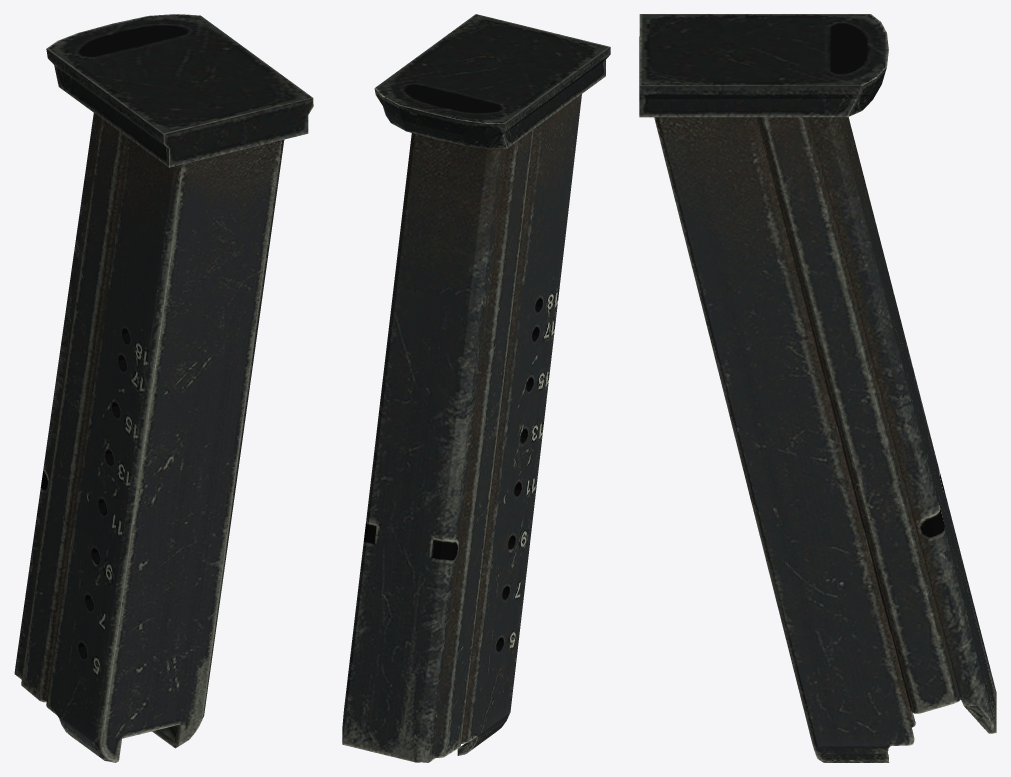
The picture shows the model from 3 angles, left to right: view 1: azimuth 30°, elevation 25°; view 2: azimuth 150°, elevation 25°; view 3: azimuth 270°, elevation 25°; orthographic projection. The views are drawn at different scales.
Visible parts, largest first — view 1: TW_576a5ed62459771e9c2096cb_PZ_Import; view 2: TW_576a5ed62459771e9c2096cb_PZ_Import; view 3: TW_576a5ed62459771e9c2096cb_PZ_Import.
Part boxes in pixels (x1,y1,x2,y2): TW_576a5ed62459771e9c2096cb_PZ_Import: (14,14,313,762); TW_576a5ed62459771e9c2096cb_PZ_Import: (342,14,610,762); TW_576a5ed62459771e9c2096cb_PZ_Import: (639,14,996,762).
Bounding box in the file's own units: 0.0162 × 0.034 × 0.0733.
1 material, 1 textured.
